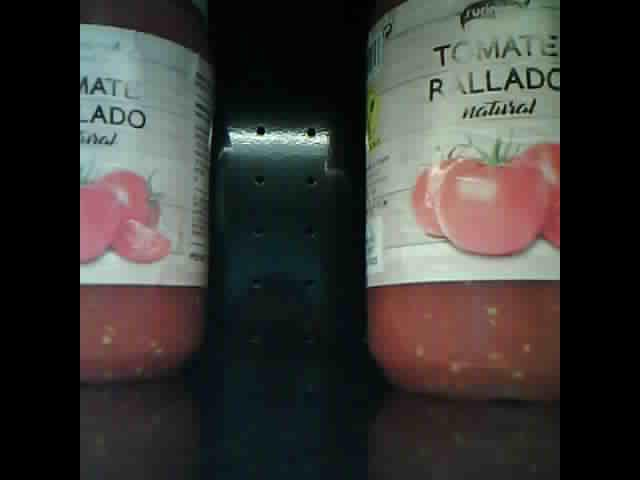tomate: (366, 2, 559, 400), (82, 4, 212, 384)
